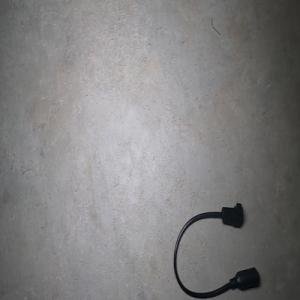Wire: (173, 202, 259, 299)
